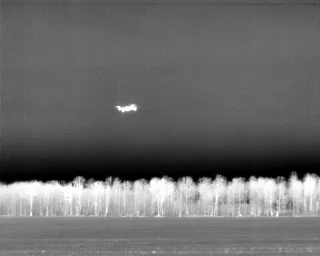DRONE: (112, 98, 143, 118)
